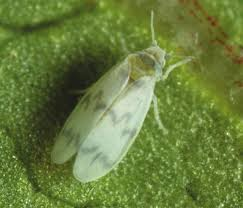Tobacco Whitefly: (58, 36, 170, 179)
